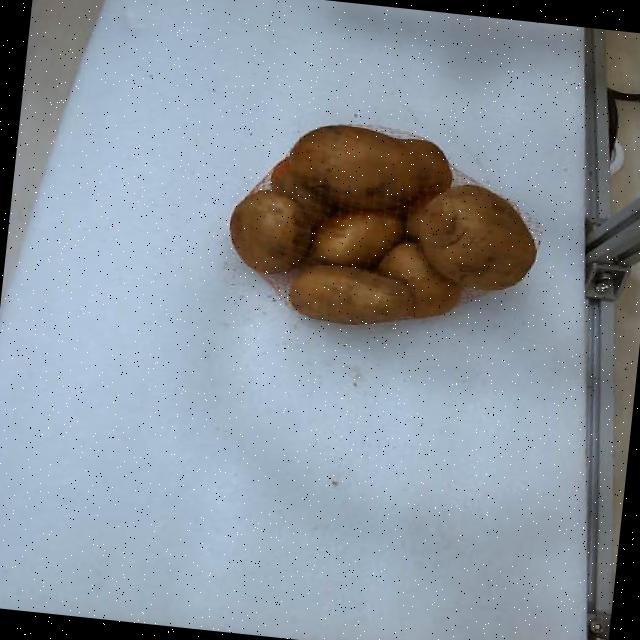potato: (288, 123, 450, 209), (407, 184, 535, 289), (289, 263, 412, 324), (230, 191, 312, 273), (378, 242, 460, 316), (311, 212, 404, 266), (270, 156, 330, 224)
